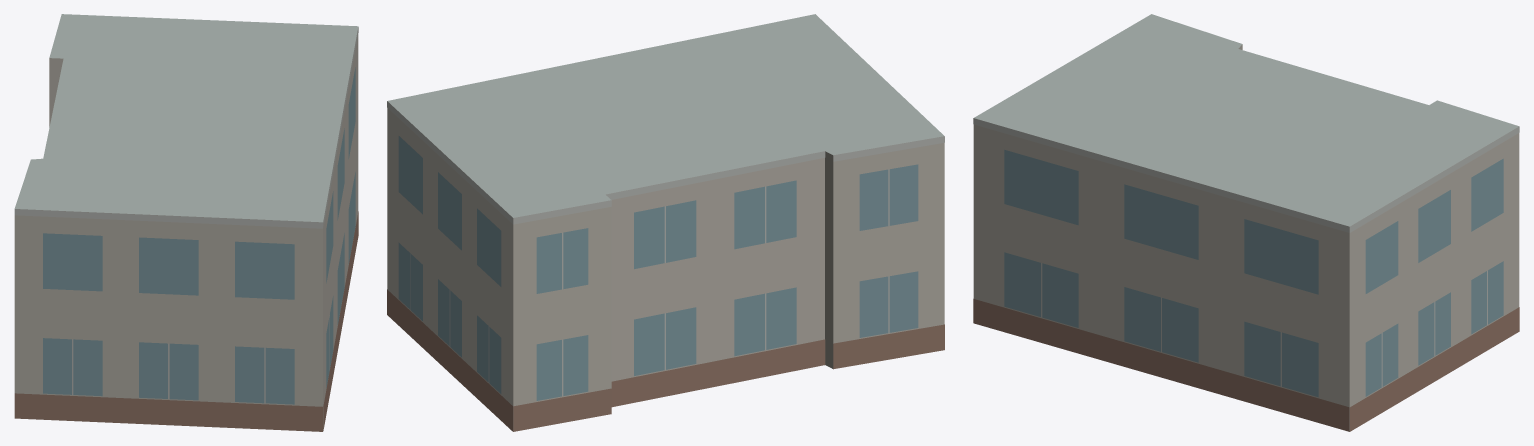
Rendered from survey-upis-32841226.glb.
3 views of the same model, side by side, from view 1: azimuth 30°, elevation 25°; view 2: azimuth 150°, elevation 25°; view 3: azimuth 270°, elevation 25° (orthographic). The views are drawn at different scales.
Visible parts, largest first — view 1: survey-upis-32841226.tmp; view 2: survey-upis-32841226.tmp; view 3: survey-upis-32841226.tmp.
Boxes of the visible parts, x1,y1,x2,y2 form: survey-upis-32841226.tmp: [14, 14, 358, 431]; survey-upis-32841226.tmp: [387, 14, 944, 431]; survey-upis-32841226.tmp: [973, 14, 1519, 431].
Bounding box in the file's own units: 17.57 × 7.9 × 19.06.
